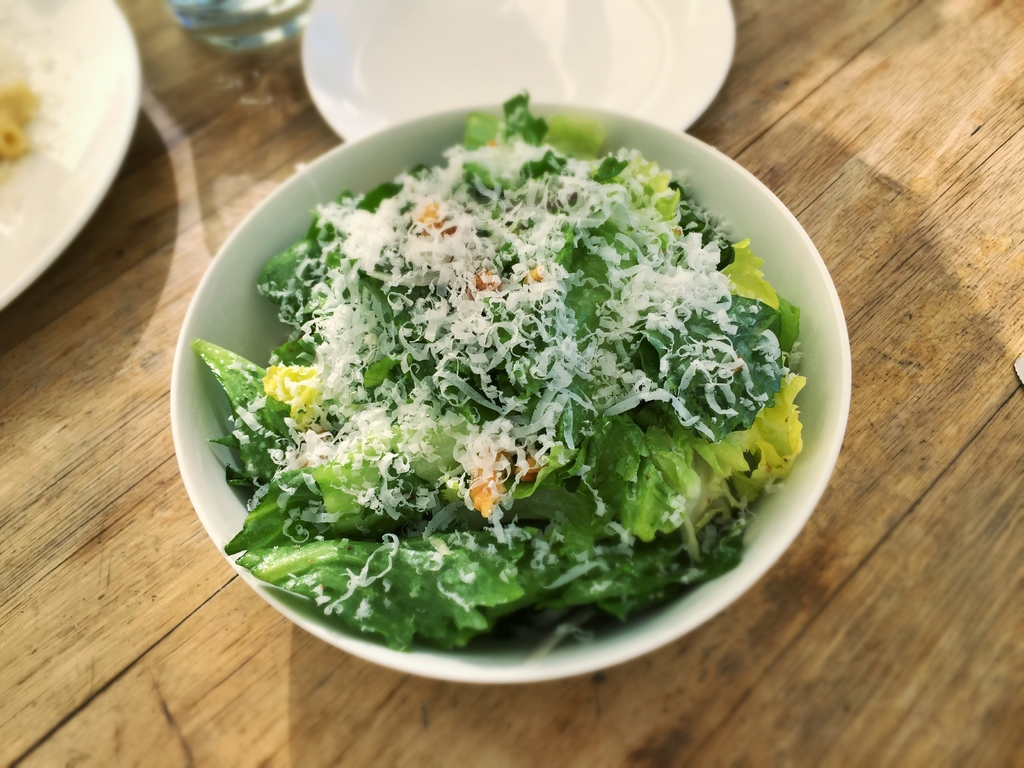salad: (186, 83, 819, 643)
